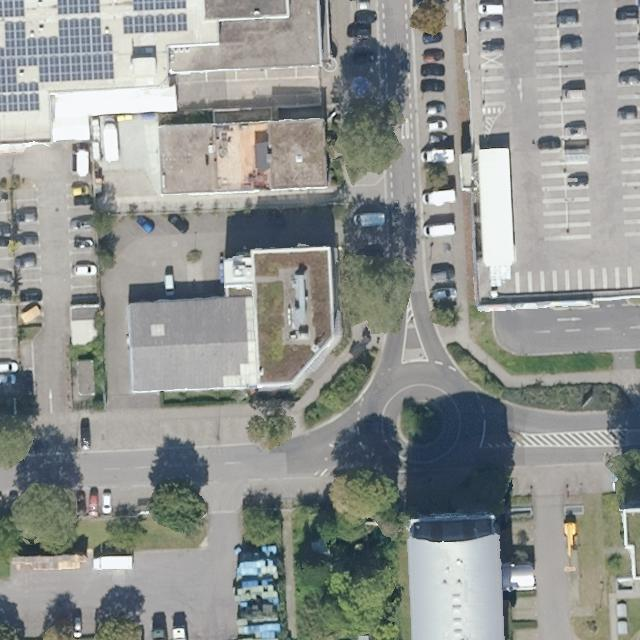PV: (0, 1, 116, 114), (123, 1, 190, 35)
